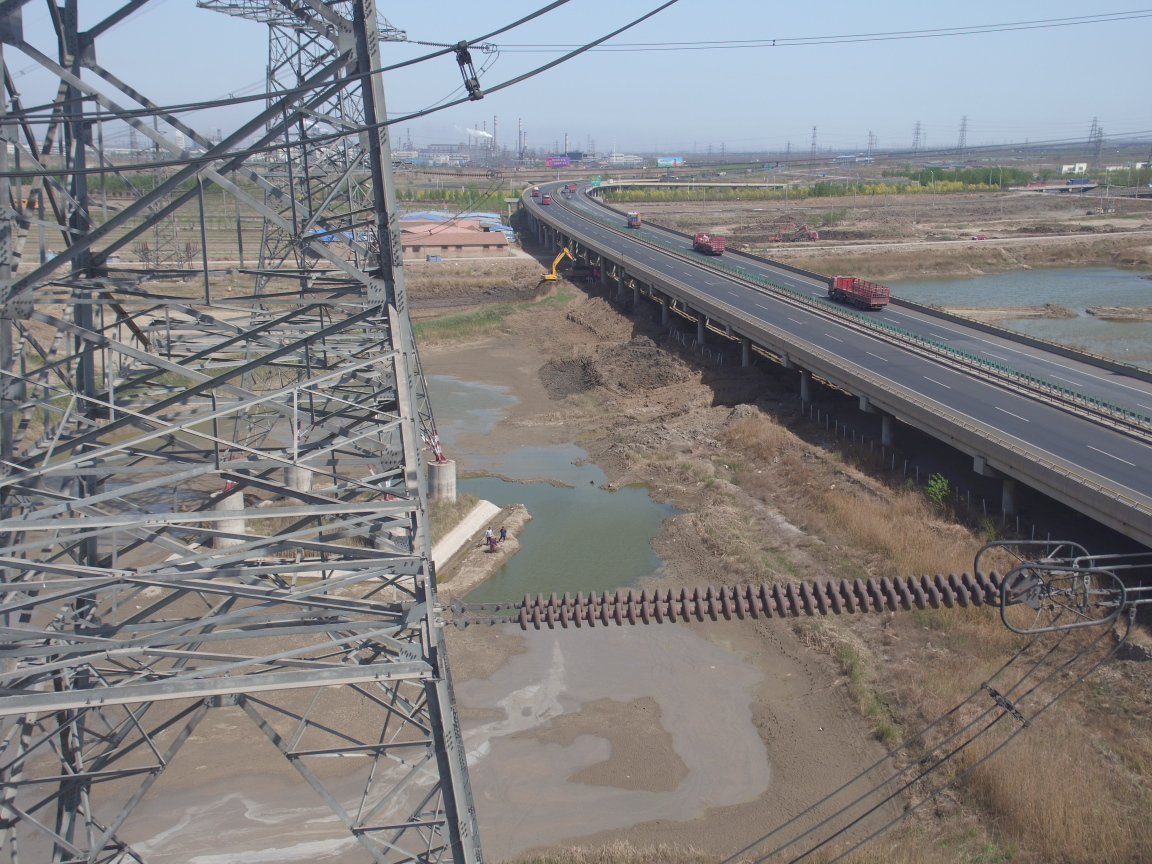insulator: (489, 567, 1033, 632)
